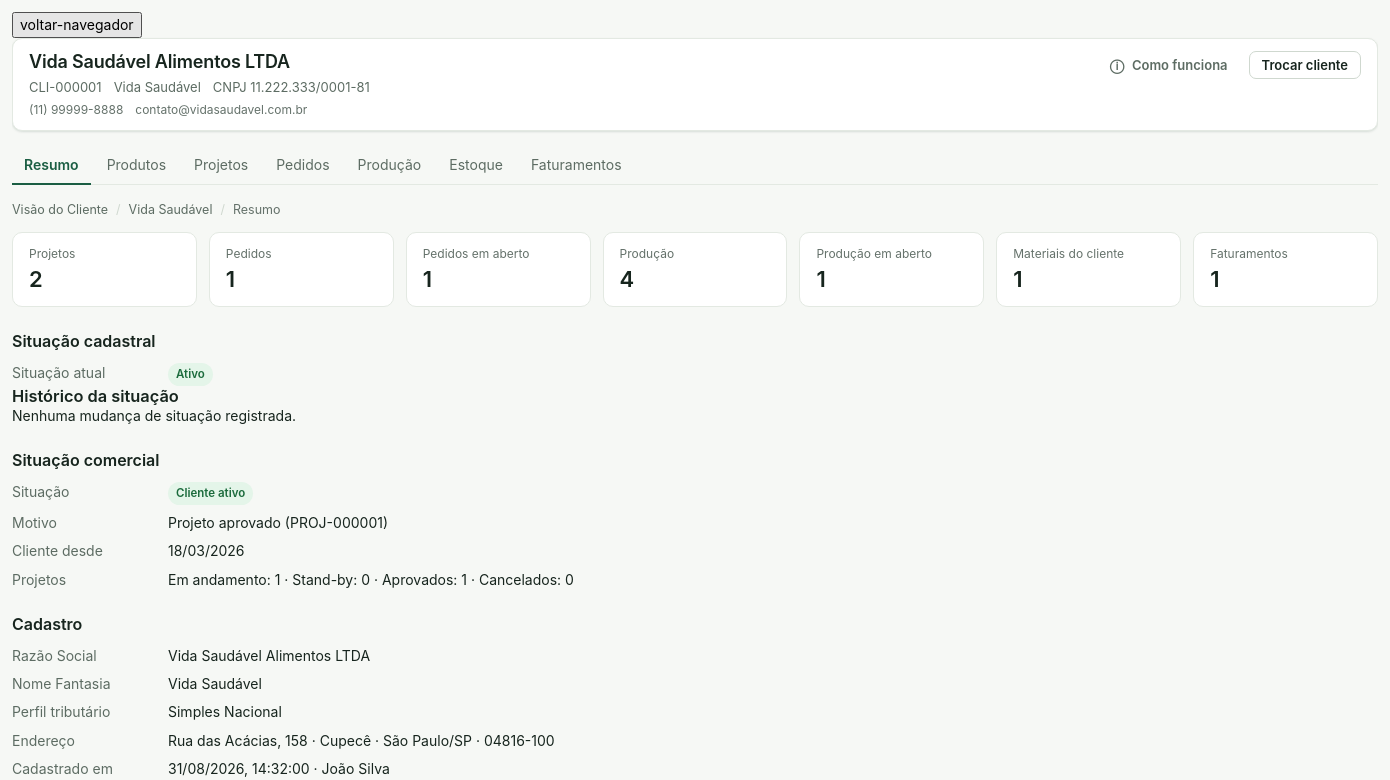
Test: Consulta do Cliente — produção › o resumo conta as ordens e as em aberto, e leva à aba
The image size is (1390, 780).
Expected: the link with aria-label "Produção em aberto: 1" is shown, [799, 232, 984, 307]
Click the link with aria-label "Produção: 4".
click(695, 269)  # box [603, 232, 788, 307]
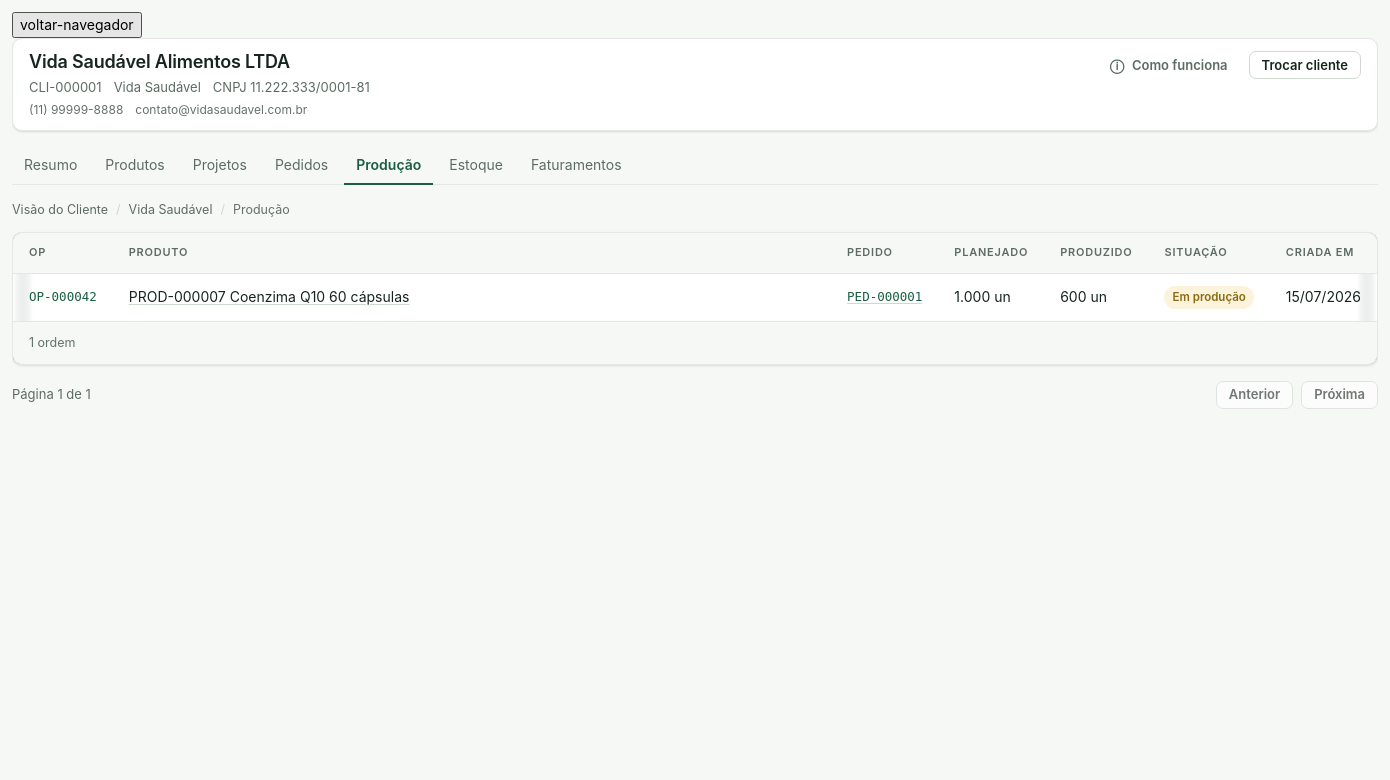
Expected: the heading "Vida Saudável Alimentos LTDA" is shown, [29, 51, 290, 72]
Expected: the text "OP-000042" is shown, [13, 273, 113, 321]
